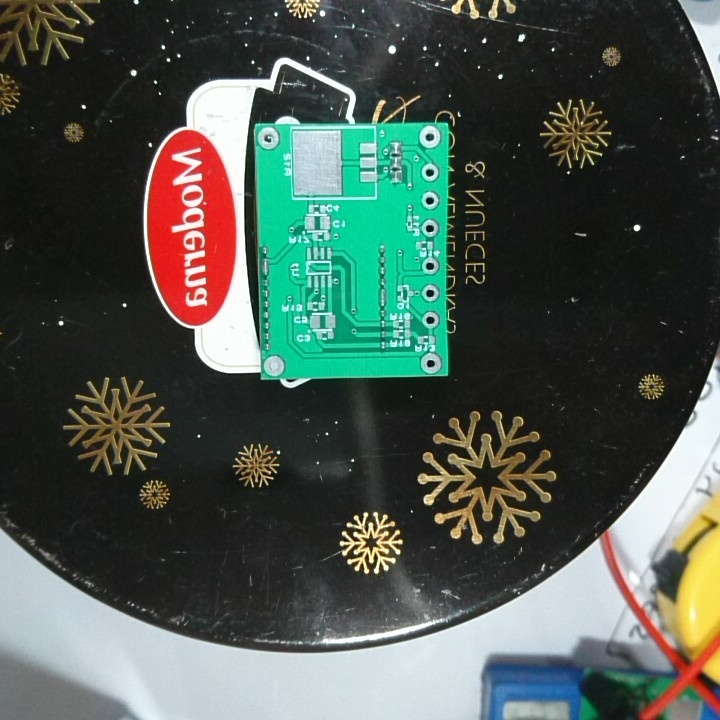F: (255, 125, 283, 154), (417, 124, 441, 152), (262, 354, 287, 378), (418, 189, 440, 212), (419, 216, 441, 239), (419, 162, 441, 184), (419, 351, 441, 373), (419, 255, 440, 276), (420, 282, 440, 303), (421, 309, 439, 329)
P: (259, 257, 273, 278), (377, 286, 390, 308)
